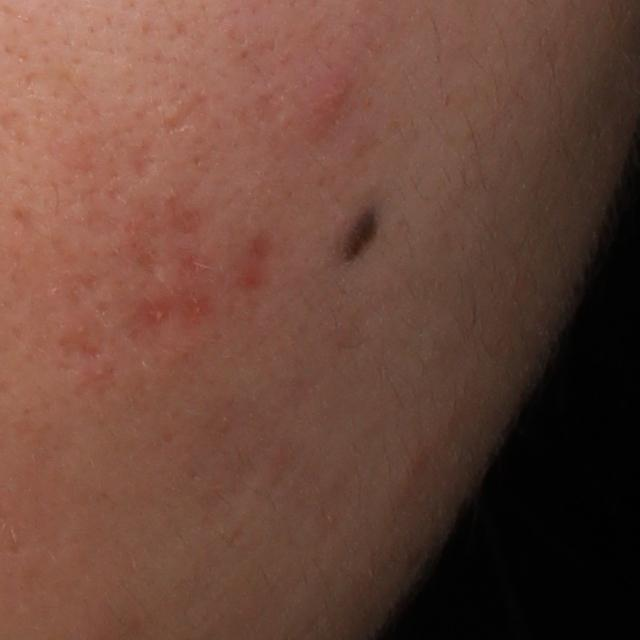atrophic_scar: (162, 91, 222, 134), (126, 127, 159, 187)
nevus: (334, 199, 381, 266)
papule: (309, 70, 357, 128)
